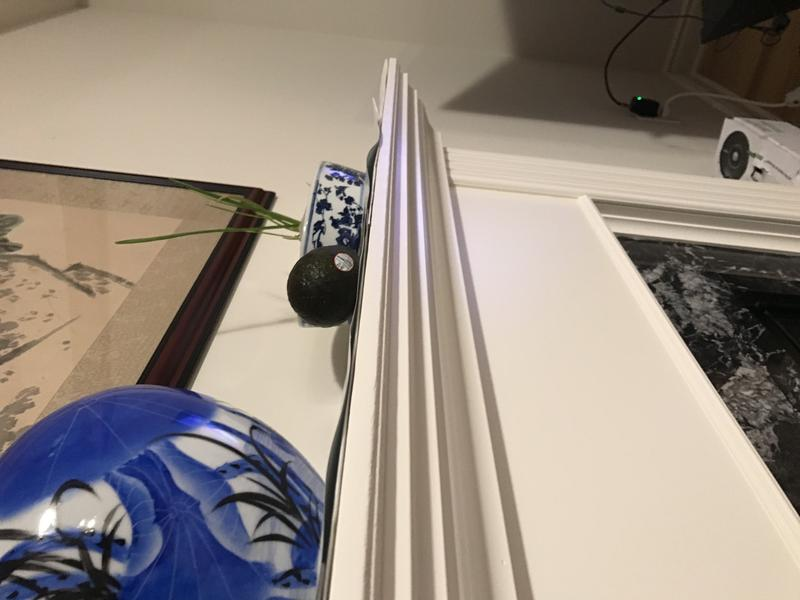avacado: (278, 237, 369, 337)
